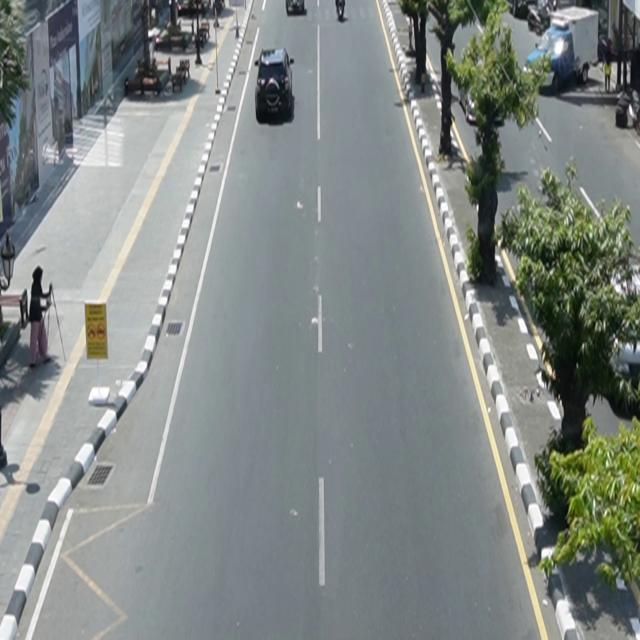car: (255, 47, 295, 123), (287, 1, 307, 16)
